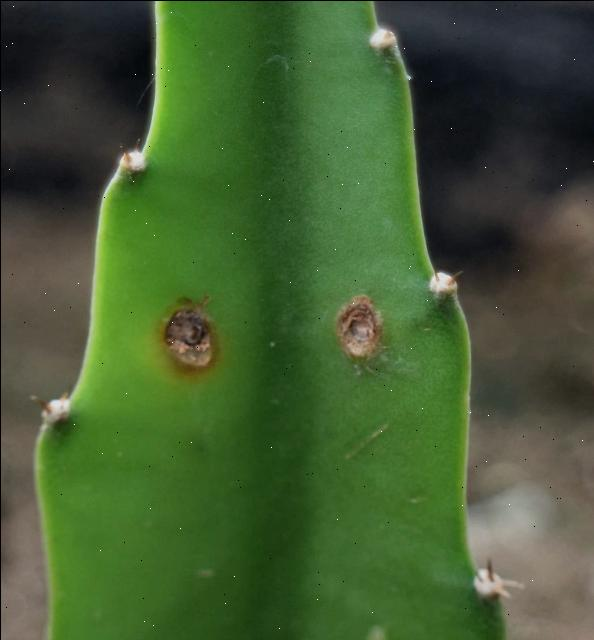stemcanker: (154, 286, 224, 379), (330, 282, 389, 368)
